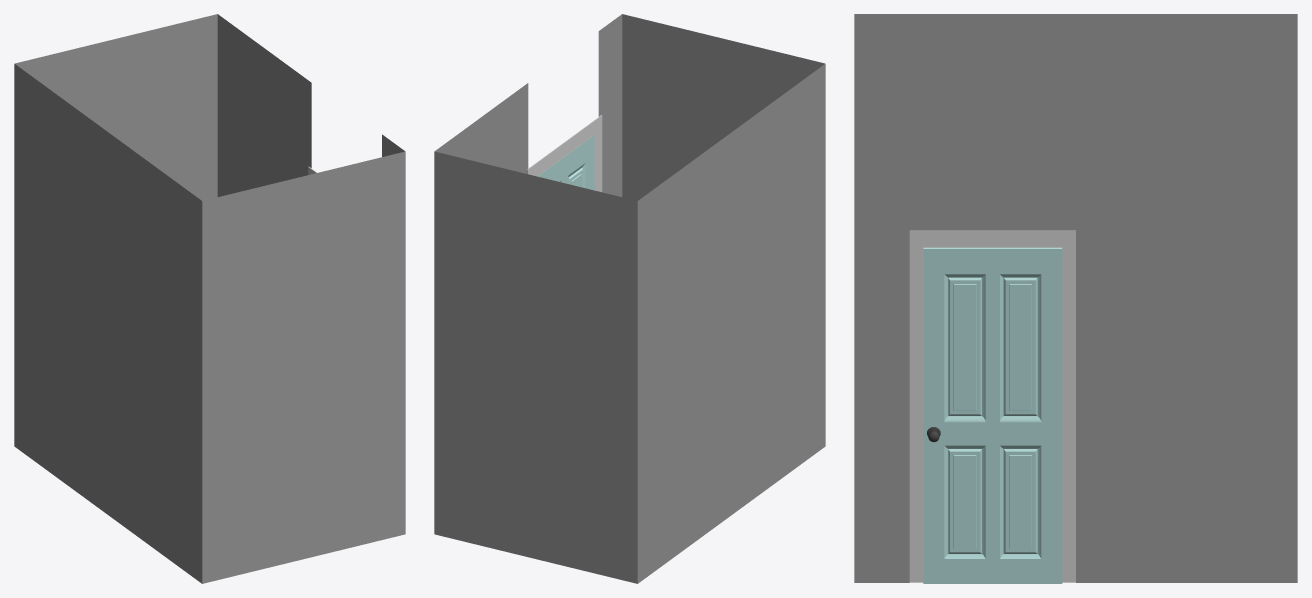
File: start room.fbx
3 views of the same model, side by side, from view 1: azimuth 30°, elevation 25°; view 2: azimuth 150°, elevation 25°; view 3: azimuth 270°, elevation 25° (orthographic). The views are drawn at different scales.
Visible parts, largest first — view 1: pPlane43, pPlane42, pPlane41, pPlane40; view 2: pPlane41, pPlane42, pPlane43, pPlane40, pPlane44, door, door_trim; view 3: pPlane40, pPlane42, door, pPlane44, door_trim.
Boxes of the visible parts, <box> form: pPlane43: <box>202,151,405,583</box>; pPlane42: <box>14,64,202,583</box>; pPlane41: <box>15,14,217,200</box>; pPlane40: <box>217,14,311,196</box>; pPlane41: <box>434,151,637,583</box>; pPlane42: <box>637,64,825,583</box>; pPlane43: <box>622,14,824,200</box>; pPlane40: <box>435,83,528,173</box>; pPlane44: <box>598,14,622,196</box>; door: <box>538,135,594,190</box>; door_trim: <box>527,115,602,192</box>; pPlane40: <box>1076,131,1297,582</box>; pPlane42: <box>854,14,1297,230</box>; door: <box>923,247,1062,583</box>; pPlane44: <box>854,131,909,582</box>; door_trim: <box>909,230,1075,582</box>.
Bounding box in the file's own units: 1.61 × 2.74 × 2.44.
